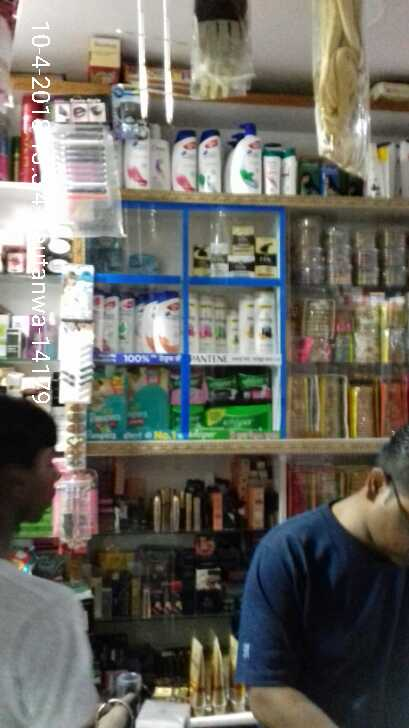gillete: (59, 342, 94, 401)
venus: (95, 236, 120, 271), (130, 253, 160, 273)
